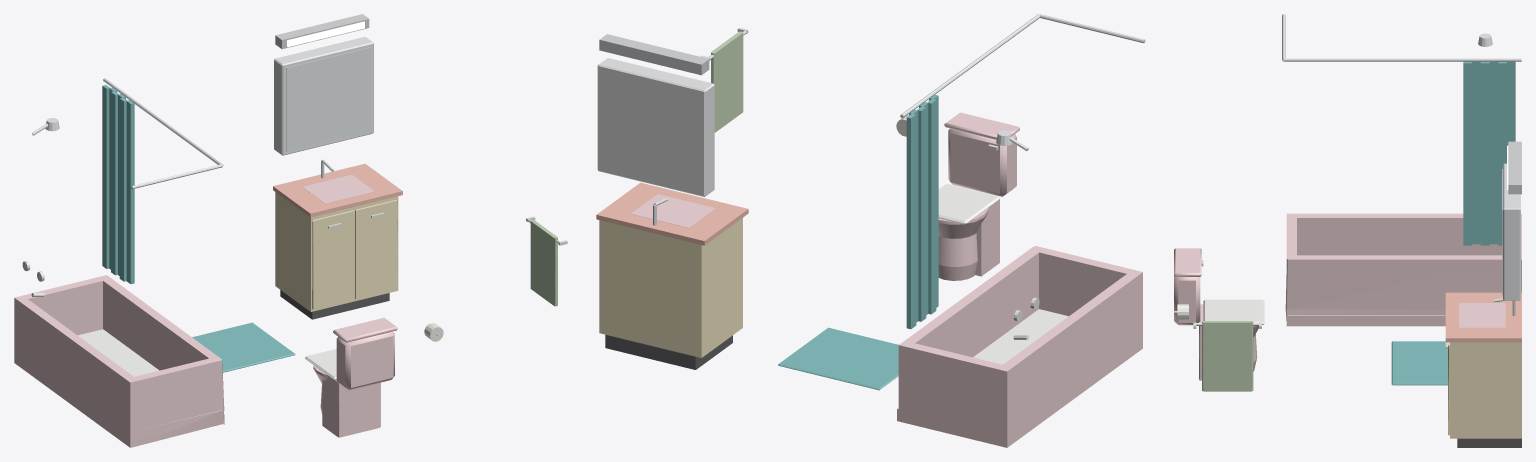
The model's file is bathroom.glb.
3 renders of one model, left to right at view 1: azimuth 30°, elevation 25°; view 2: azimuth 150°, elevation 25°; view 3: azimuth 270°, elevation 25°, orthographic. The views are drawn at different scales.
Visible parts, largest first — view 1: bathroom_porc_p, bathroom_cab_y, bathroom_fabric_t, bathroom_mirror, bathroom_chrome, bathroom_formica, bathroom_porcelain, bathroom_bed_g, bathroom_metal, bathroom_dark, bathroom_lamp_glass; view 2: bathroom_porc_p, bathroom_cab_y, bathroom_chrome, bathroom_fabric_t, bathroom_formica, bathroom_porcelain, bathroom_bed_g, bathroom_metal, bathroom_dark; view 3: bathroom_porc_p, bathroom_fabric_t, bathroom_cab_y, bathroom_bed_g, bathroom_chrome, bathroom_formica, bathroom_porcelain, bathroom_metal, bathroom_dark.
Part boxes in pixels (box(x1,y1,x2,y2)): bathroom_porc_p: box(14, 174, 397, 447); bathroom_cab_y: box(275, 192, 398, 311); bathroom_fabric_t: box(102, 85, 295, 372); bathroom_mirror: box(286, 47, 370, 151); bathroom_chrome: box(22, 36, 567, 336); bathroom_formica: box(273, 163, 402, 217); bathroom_porcelain: box(78, 329, 336, 380); bathroom_bed_g: box(530, 219, 557, 306); bathroom_metal: box(275, 14, 369, 49); bathroom_dark: box(280, 290, 389, 319); bathroom_lamp_glass: box(287, 21, 364, 46); bathroom_porc_p: box(631, 112, 1142, 447); bathroom_cab_y: box(599, 218, 742, 357); bathroom_chrome: box(597, 14, 1145, 339); bathroom_fabric_t: box(778, 94, 938, 390); bathroom_formica: box(596, 182, 748, 245); bathroom_porcelain: box(938, 184, 1068, 364); bathroom_bed_g: box(711, 31, 743, 132); bathroom_metal: box(599, 34, 709, 75); bathroom_dark: box(605, 334, 732, 369); bathroom_porc_p: box(1174, 213, 1521, 380); bathroom_fabric_t: box(1391, 61, 1515, 385); bathroom_cab_y: box(1448, 342, 1521, 438); bathroom_bed_g: box(1202, 321, 1253, 391); bathroom_chrome: box(1174, 14, 1521, 348); bathroom_formica: box(1445, 292, 1521, 342); bathroom_porcelain: box(1203, 299, 1264, 324); bathroom_metal: box(1508, 141, 1521, 194); bathroom_dark: box(1457, 438, 1521, 447).
Size of the model in its own units: 3.13 by 2.02 by 2.38.
